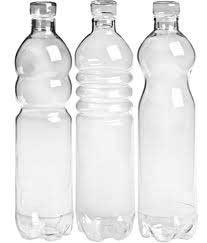Rec_Plastic: (7, 2, 74, 239), (134, 1, 199, 235), (73, 1, 137, 238)
